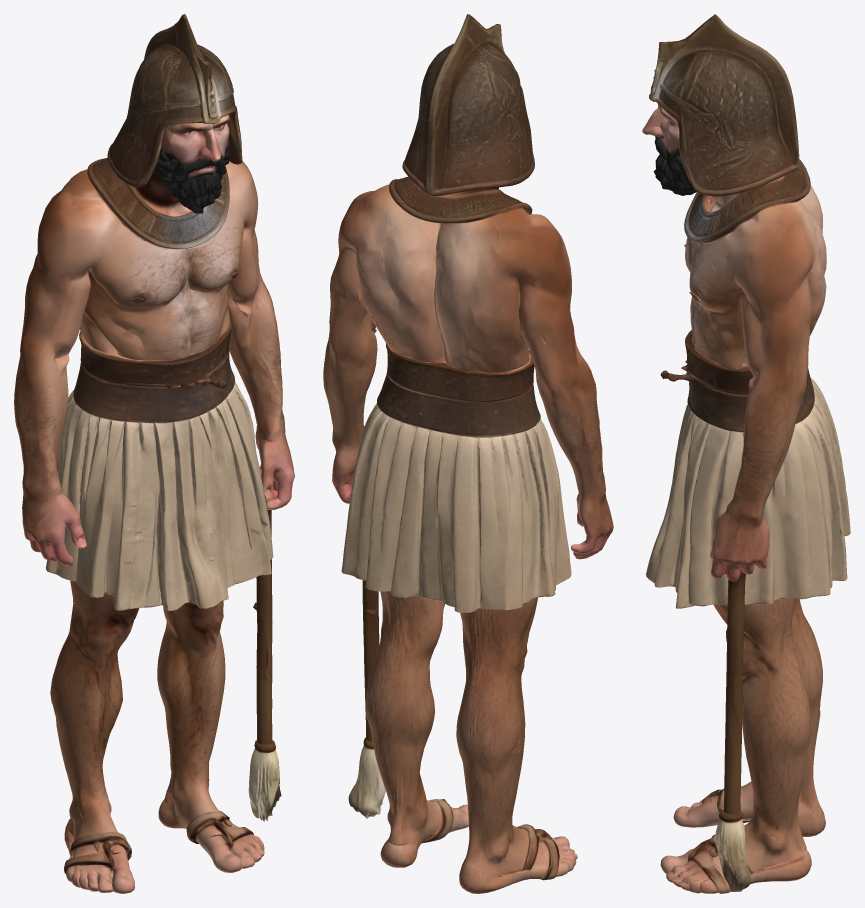
Rendered from crowd_spearman_rodin_source.glb.
3 views of the same model, side by side, from view 1: azimuth 30°, elevation 25°; view 2: azimuth 150°, elevation 25°; view 3: azimuth 270°, elevation 25° (orthographic). The views are drawn at different scales.
Parts seen in each view (by area): view 1: model; view 2: model; view 3: model.
Boxes of the visible parts, x1,y1,x2,y2 form: model: [14, 14, 294, 893]; model: [323, 14, 613, 893]; model: [642, 14, 850, 893].
Bounding box in the file's own units: 0.6354 × 1.9 × 0.4244.
Materials: 1 (1 with a texture image).
